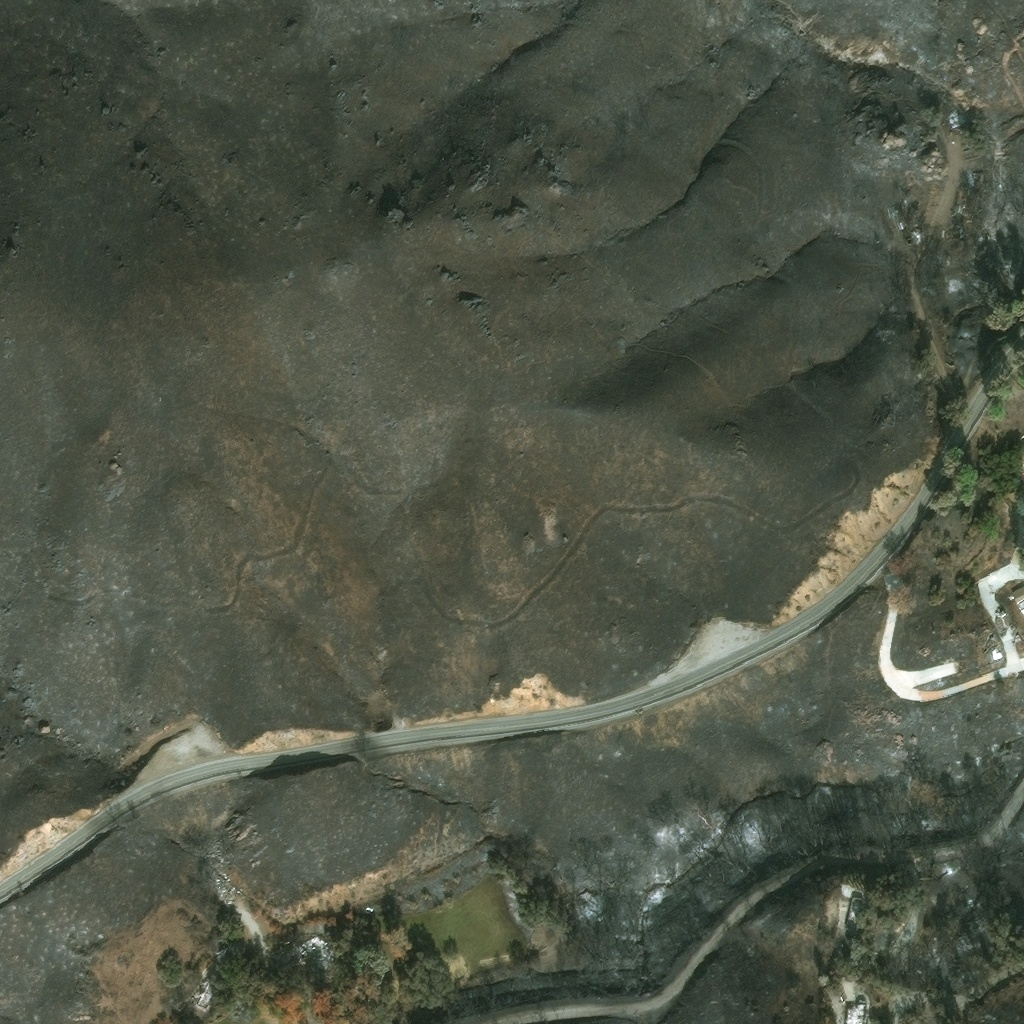3 destroyed: (305, 938, 343, 975), (843, 893, 865, 931), (844, 1002, 870, 1023), (213, 880, 231, 901), (198, 974, 213, 997), (949, 223, 967, 240), (188, 993, 199, 1004), (930, 891, 939, 900)
4 un-classified: (1012, 583, 1023, 602)
